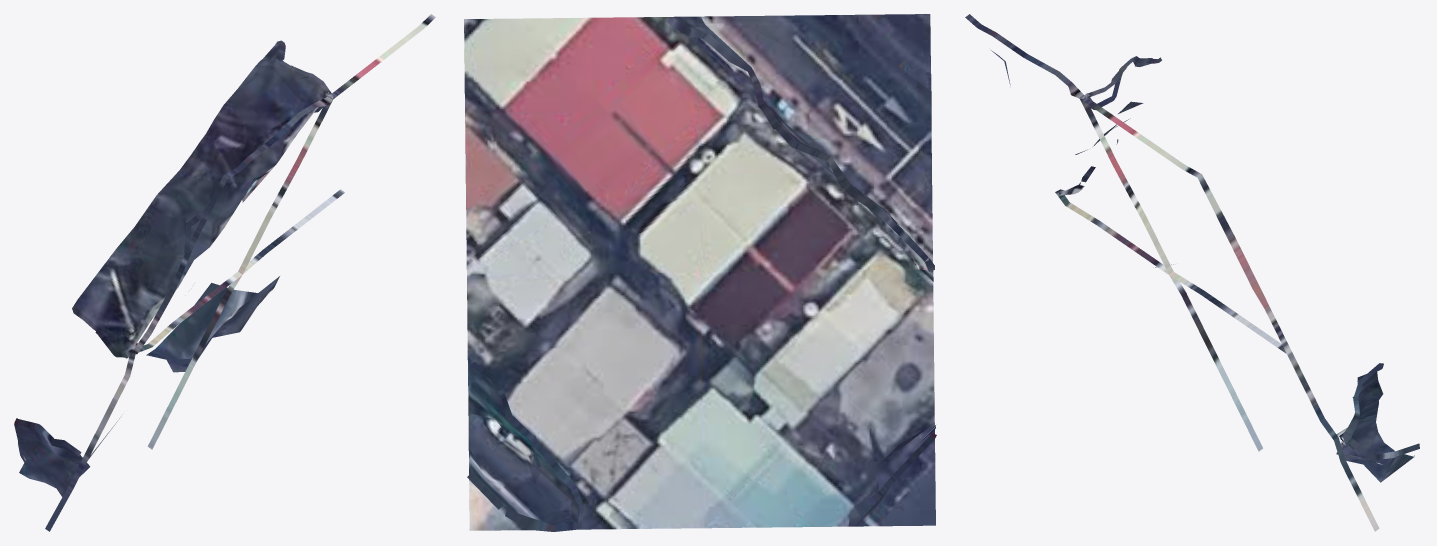
3 views of the same model, side by side, from view 1: azimuth 30°, elevation 25°; view 2: azimuth 150°, elevation 25°; view 3: azimuth 270°, elevation 25° (orthographic). The views are drawn at different scales.
Size of the model in its own units: 39.62 by 37.29 by 35.69.
Materials: 1 (1 with a texture image).
